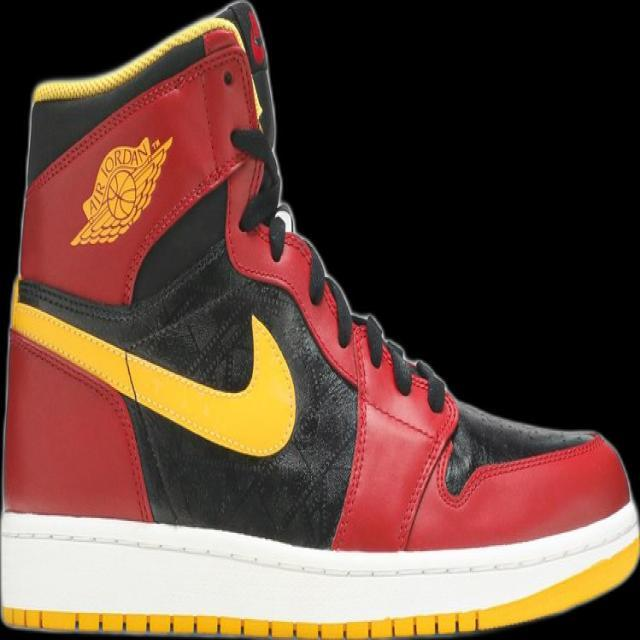J1_InsoleChar: (0, 0, 639, 639)
J1_ShoeLogo: (68, 133, 174, 247)
J1_StitchPattern: (10, 218, 453, 454), (1, 501, 638, 637), (8, 294, 299, 458), (267, 206, 452, 416), (29, 14, 245, 103), (1, 606, 482, 639), (439, 402, 598, 497), (354, 310, 450, 414)
